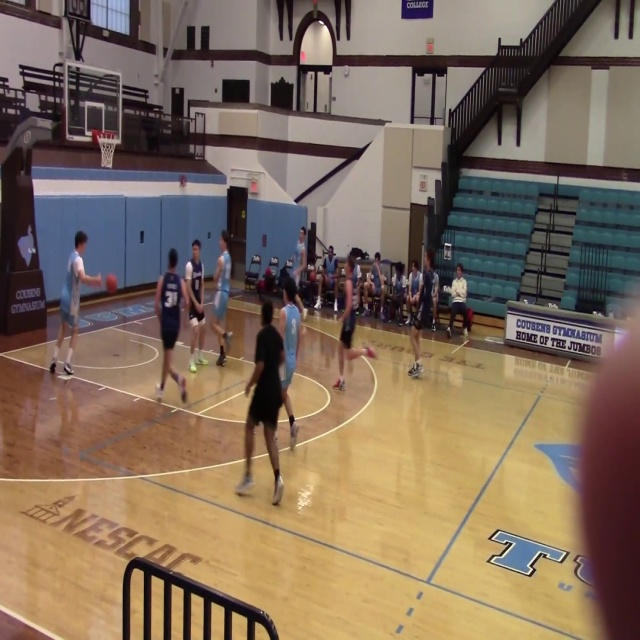Basketball: (106, 274, 118, 294), (345, 348, 360, 360), (364, 346, 376, 358)
